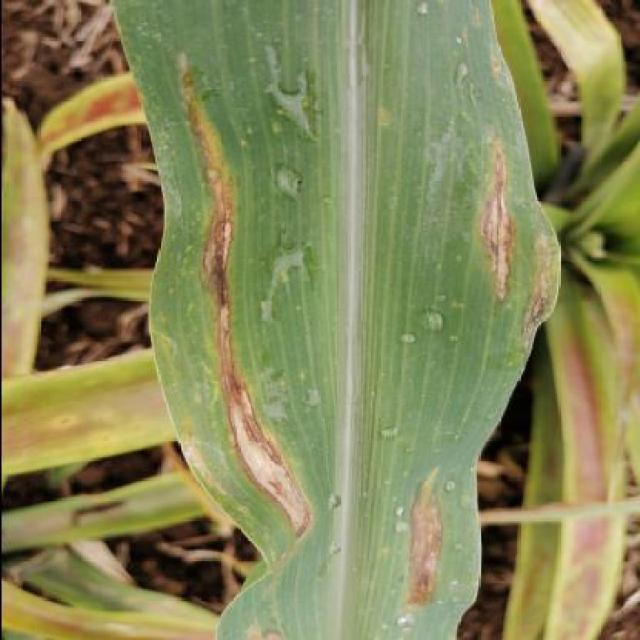Corn_Leaf_Blight: (117, 0, 561, 640)
